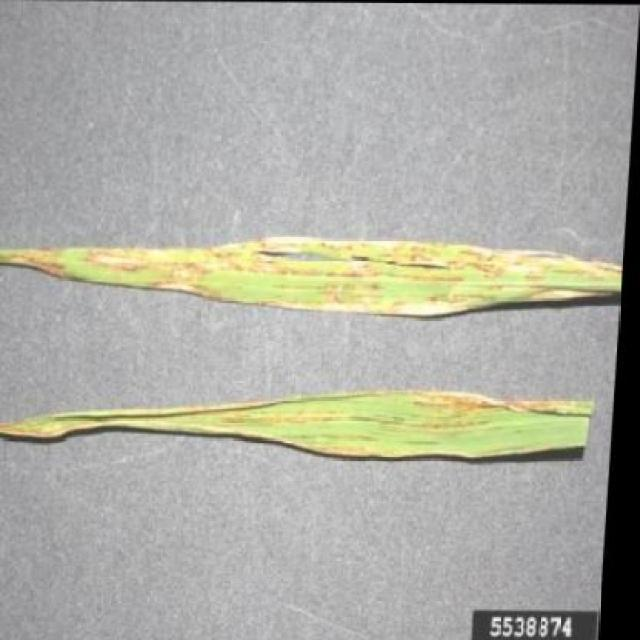Brown_Spot: (24, 220, 621, 315), (37, 369, 589, 429)
